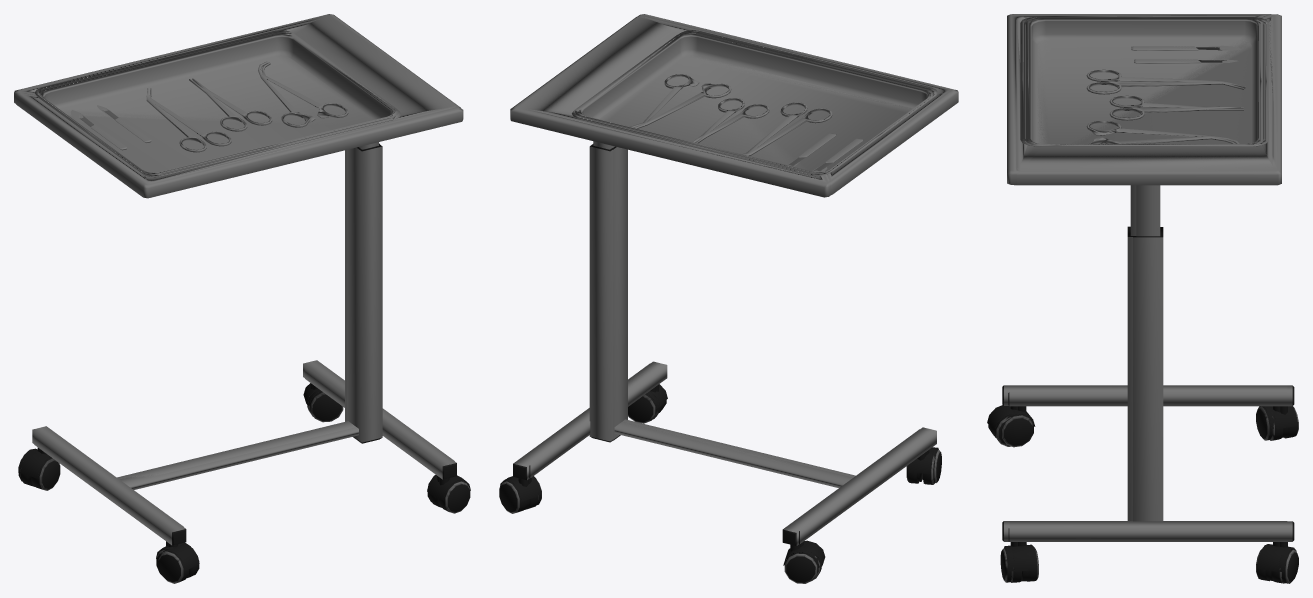
The model's file is instrument_table.fbx.
3 views of the same model, side by side, from view 1: azimuth 30°, elevation 25°; view 2: azimuth 150°, elevation 25°; view 3: azimuth 270°, elevation 25° (orthographic). The views are drawn at different scales.
Visible parts, largest first — view 1: Mesh_ncl1_1, Mesh; view 2: Mesh, Mesh_ncl1_1; view 3: Mesh, Mesh_ncl1_1.
Part boxes in pixels (x1,y1,x2,y2): Mesh_ncl1_1: (16,16,470,583); Mesh: (14,14,466,577); Mesh: (499,16,950,583); Mesh_ncl1_1: (507,14,958,579); Mesh: (1001,14,1298,583); Mesh_ncl1_1: (987,14,1288,583).
Bounding box in the file's own units: 68.86 × 80.32 × 54.97.
